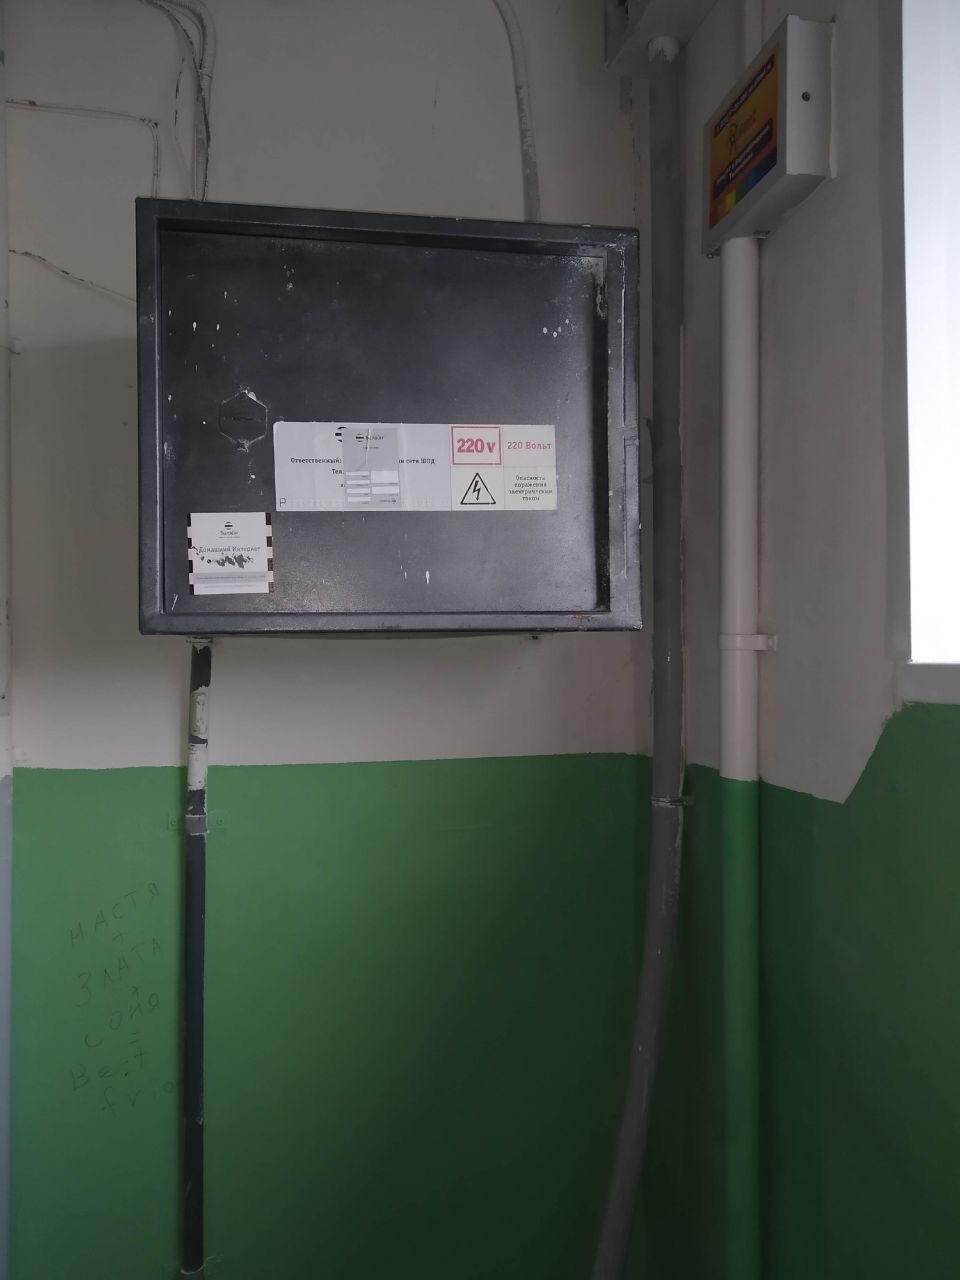shta-9m: (120, 182, 657, 650)
